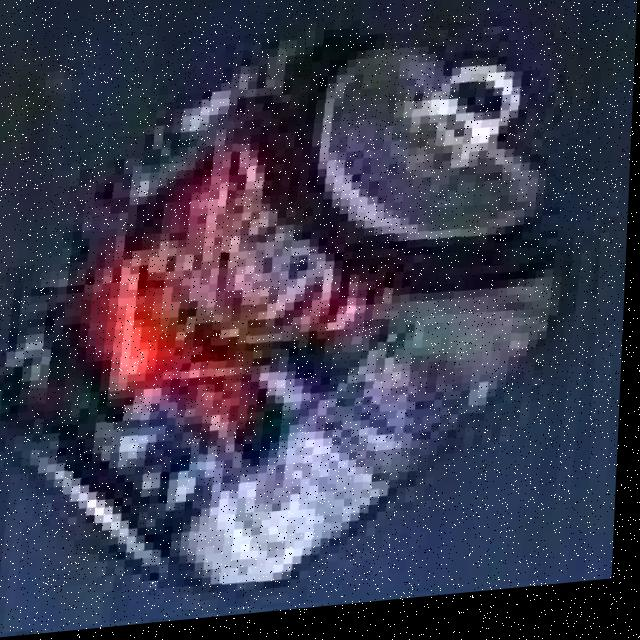can: (0, 8, 608, 619)
